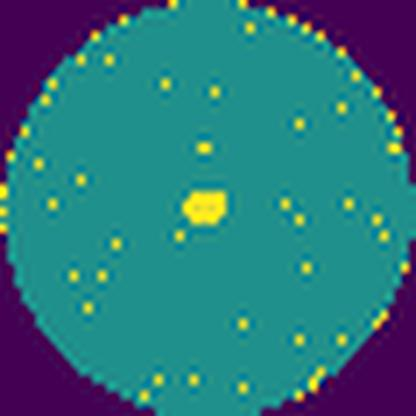Center: (178, 186, 234, 228)
